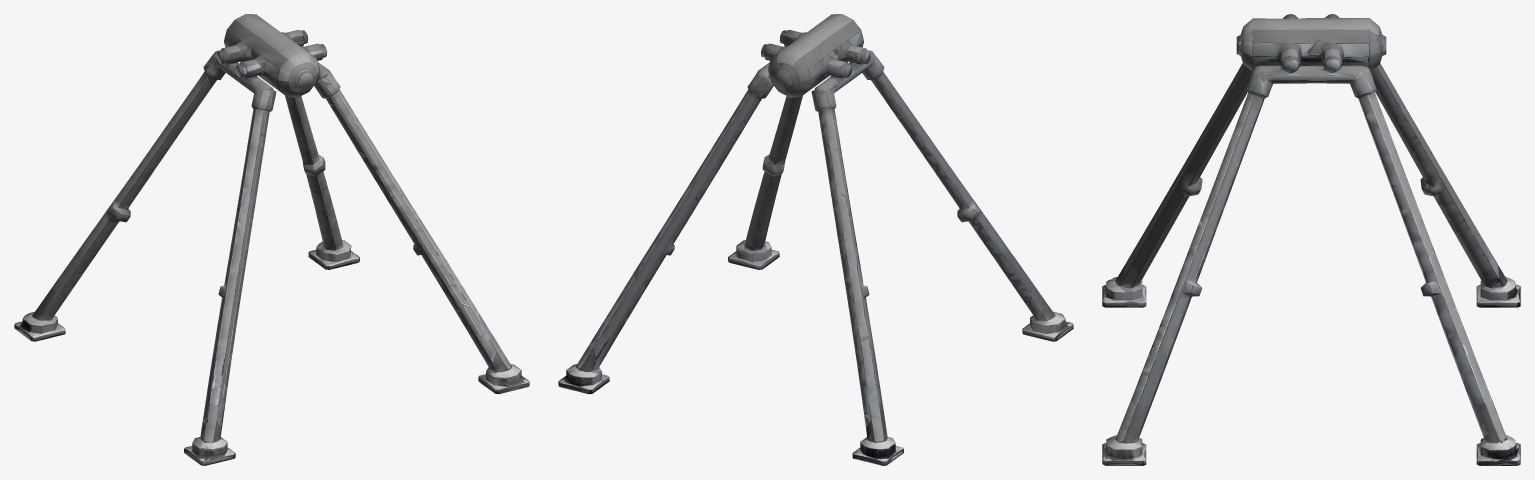
Rendered from wsupport.glb.
3 renders of one model, left to right at view 1: azimuth 30°, elevation 25°; view 2: azimuth 150°, elevation 25°; view 3: azimuth 270°, elevation 25°, orthographic. The views are drawn at different scales.
Visible parts, largest first — view 1: mesh_node; view 2: mesh_node; view 3: mesh_node.
Boxes of the visible parts, x1=… form: mesh_node: x1=14, y1=14, x2=529, y2=465; mesh_node: x1=558, y1=14, x2=1073, y2=465; mesh_node: x1=1102, y1=14, x2=1520, y2=465.
Size of the model in its own units: 1.9 by 1.8 by 1.9.
1 material, 1 textured.
